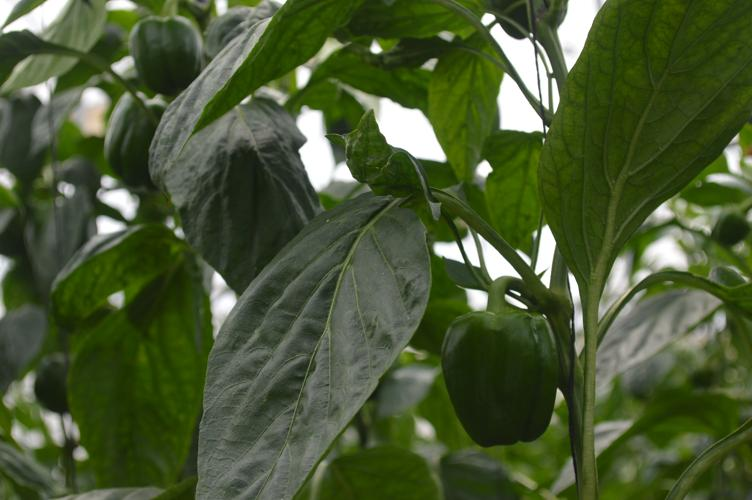BellPepper: (441, 314, 561, 446), (103, 93, 166, 190), (132, 17, 204, 89)
